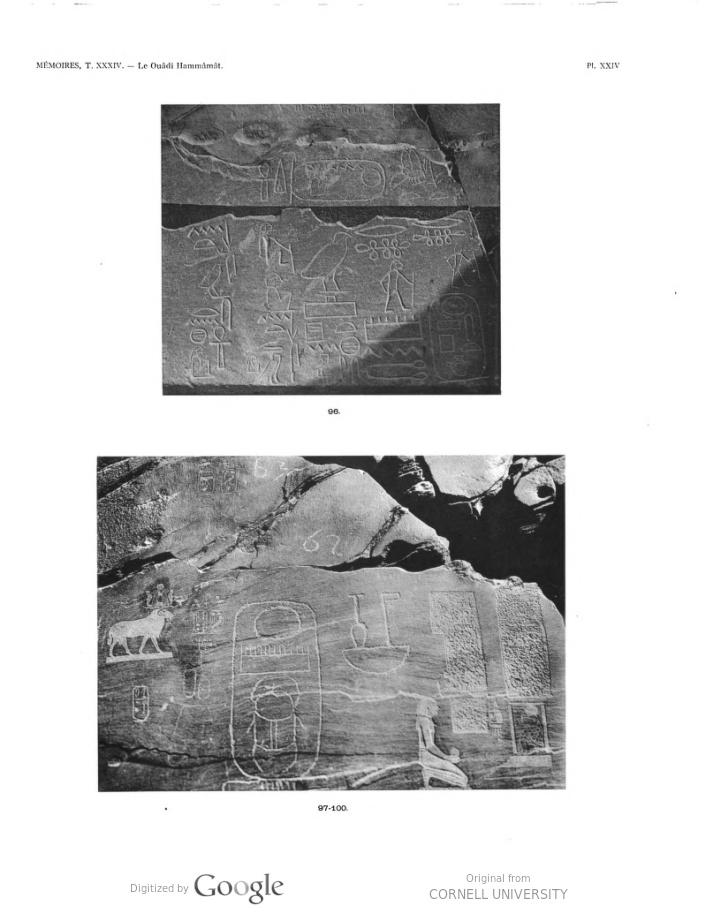circle: (222, 575, 329, 783), (422, 277, 498, 390), (269, 145, 397, 210), (130, 678, 158, 733)
